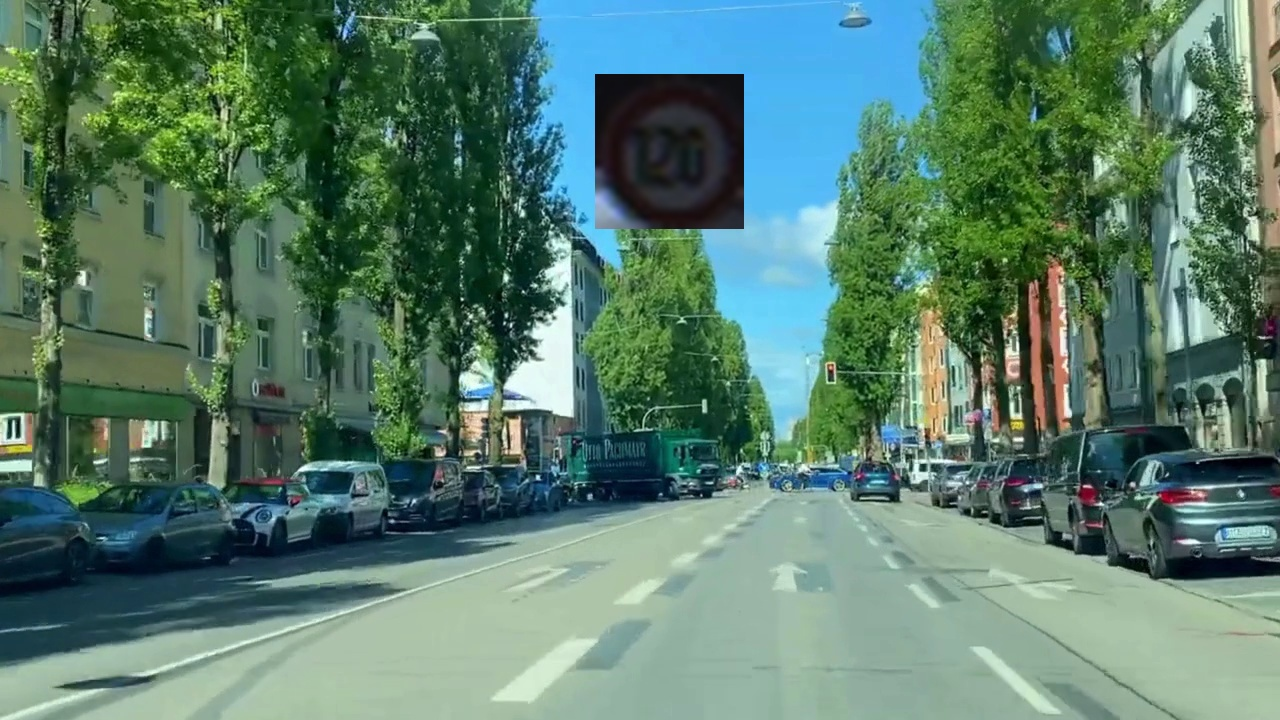Speed 120: (595, 74, 744, 229)
